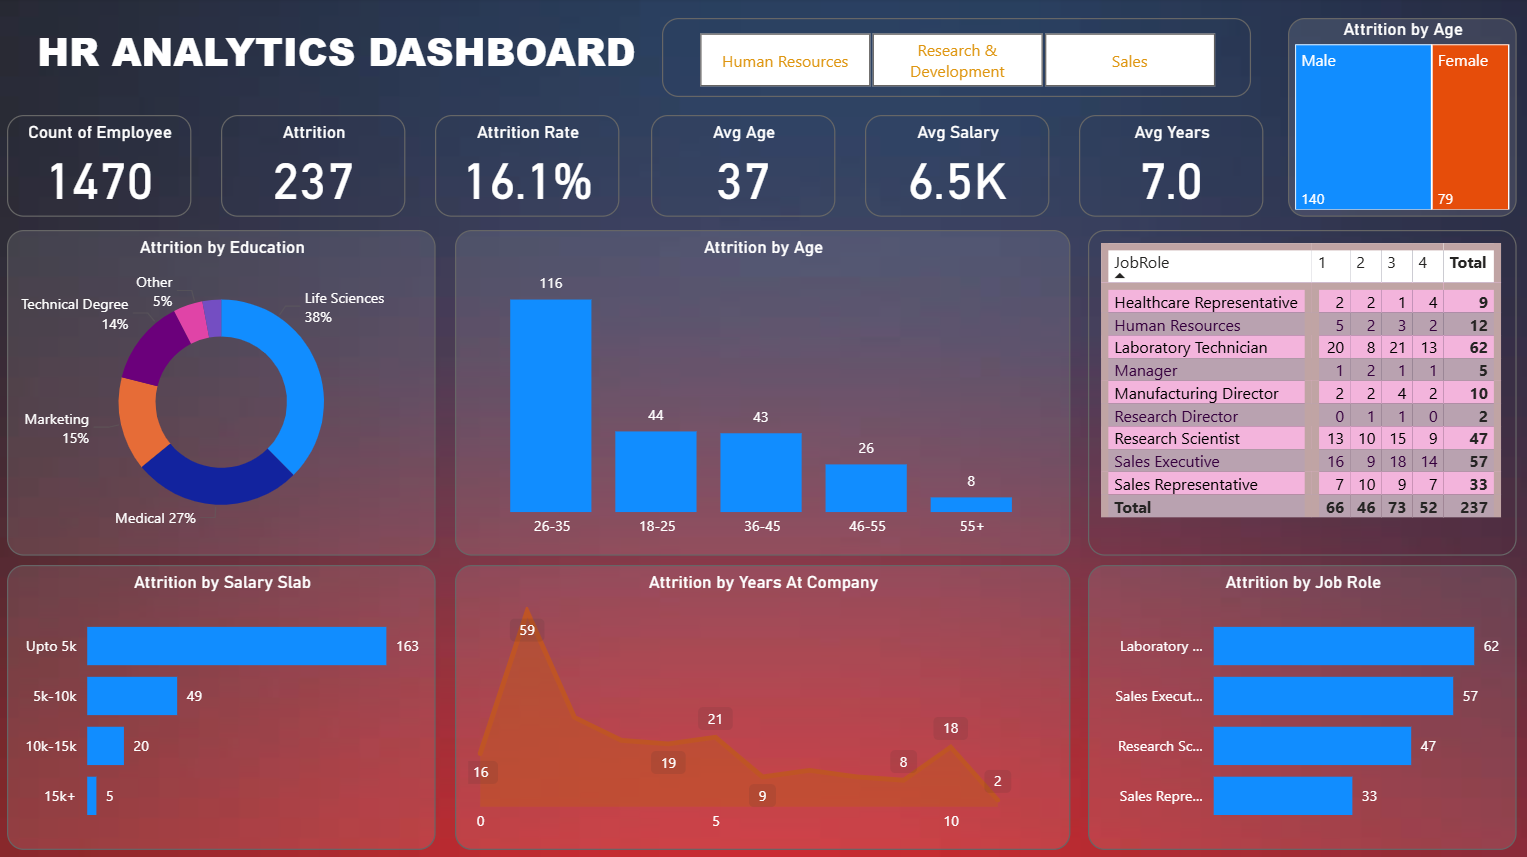

This screenshot's page, from the dashboard's own definition file:
{"tool":"powerbi","page":{"name":"Page 1","canvas":[1280,720],"ordinal":0},"visuals":[{"type":"card","title":"Attrition","fields":{"Values":["Sum(HR_Analytics.AttritionCount)"]},"box":[185.3,97.9,153.7,85.3],"z":0},{"type":"card","title":"Avg Age","fields":{"Values":["Avg(HR_Analytics.Age)"]},"box":[544.2,97.9,153.7,85.3],"z":1000},{"type":"card","title":"Count of Employee","fields":{"Values":["CountNonNull(HR_Analytics.EmpID)"]},"box":[6.3,97.9,153.7,85.3],"z":2000},{"type":"card","title":"Attrition Rate","fields":{"Values":["HR_Analytics.AttritionRate"]},"box":[364.2,97.9,153.7,85.3],"z":3000},{"type":"card","title":"Avg Salary","fields":{"Values":["Avg(HR_Analytics.MonthlyIncome)"]},"box":[723.2,97.9,153.7,85.3],"z":4000},{"type":"card","title":"Avg Years","fields":{"Values":["Avg(HR_Analytics.YearsAtCompany)"]},"box":[902.1,97.9,153.7,85.3],"z":5000},{"type":"donutChart","title":"Attrition by Education","fields":{"Category":["HR_Analytics.EducationField"],"Y":["Sum(HR_Analytics.AttritionCount)"]},"box":[6.3,193.7,357.9,271.6],"z":6000},{"type":"columnChart","title":"Attrition by Age","fields":{"Category":["HR_Analytics.AgeGroup"],"Y":["Sum(HR_Analytics.AttritionCount)"]},"box":[381.1,193.7,513.7,271.6],"z":7000},{"type":"pivotTable","title":"Job Satisfaction","fields":{"Values":["Sum(HR_Analytics.AttritionCount)"],"Rows":["HR_Analytics.JobRole"],"Columns":["HR_Analytics.JobSatisfaction"]},"box":[909.5,193.7,357.9,271.6],"z":8000},{"type":"barChart","title":"Attrition by Salary Slab","fields":{"Category":["HR_Analytics.SalarySlab"],"Y":["Sum(HR_Analytics.AttritionCount)"]},"box":[6.3,473.7,357.9,237.9],"z":9000},{"type":"barChart","title":"Attrition by Job Role","fields":{"Category":["HR_Analytics.JobRole"],"Y":["Sum(HR_Analytics.AttritionCount)"]},"box":[909.5,473.7,357.9,237.9],"z":10000},{"type":"areaChart","title":"Attrition by Years At Company","fields":{"Category":["HR_Analytics.YearsAtCompany"],"Y":["Sum(HR_Analytics.AttritionCount)"]},"box":[381.1,473.7,513.7,237.9],"z":11000},{"type":"treemap","title":"Attrition by Age","fields":{"Group":["HR_Analytics.Gender"],"Values":["Sum(HR_Analytics.AttritionCount)"]},"box":[1076.8,16.8,190.5,166.3],"z":12000},{"type":"slicer","fields":{"Values":["HR_Analytics.Department"]},"box":[553.7,16.8,491.6,66.3],"z":13000},{"type":"textbox","box":[18.9,16.8,525.3,66.3],"z":14000}]}

Visuals, with their boxes in screenshot pixels (x1, y1, x2, y2), scaled from the page's 1280x720 canvas onto the 1527x857 screenshot:
"Attrition" card: (left=221, top=117, right=404, bottom=218)
"Avg Age" card: (left=649, top=117, right=833, bottom=218)
"Count of Employee" card: (left=8, top=117, right=191, bottom=218)
"Attrition Rate" card: (left=434, top=117, right=618, bottom=218)
"Avg Salary" card: (left=863, top=117, right=1046, bottom=218)
"Avg Years" card: (left=1076, top=117, right=1260, bottom=218)
"Attrition by Education" donutChart: (left=8, top=231, right=434, bottom=554)
"Attrition by Age" columnChart: (left=455, top=231, right=1067, bottom=554)
"Job Satisfaction" pivotTable: (left=1085, top=231, right=1512, bottom=554)
"Attrition by Salary Slab" barChart: (left=8, top=564, right=434, bottom=847)
"Attrition by Job Role" barChart: (left=1085, top=564, right=1512, bottom=847)
"Attrition by Years At Company" areaChart: (left=455, top=564, right=1067, bottom=847)
"Attrition by Age" treemap: (left=1285, top=20, right=1512, bottom=218)
slicer - HR_Analytics.Department: (left=661, top=20, right=1247, bottom=99)
textbox: (left=23, top=20, right=649, bottom=99)
